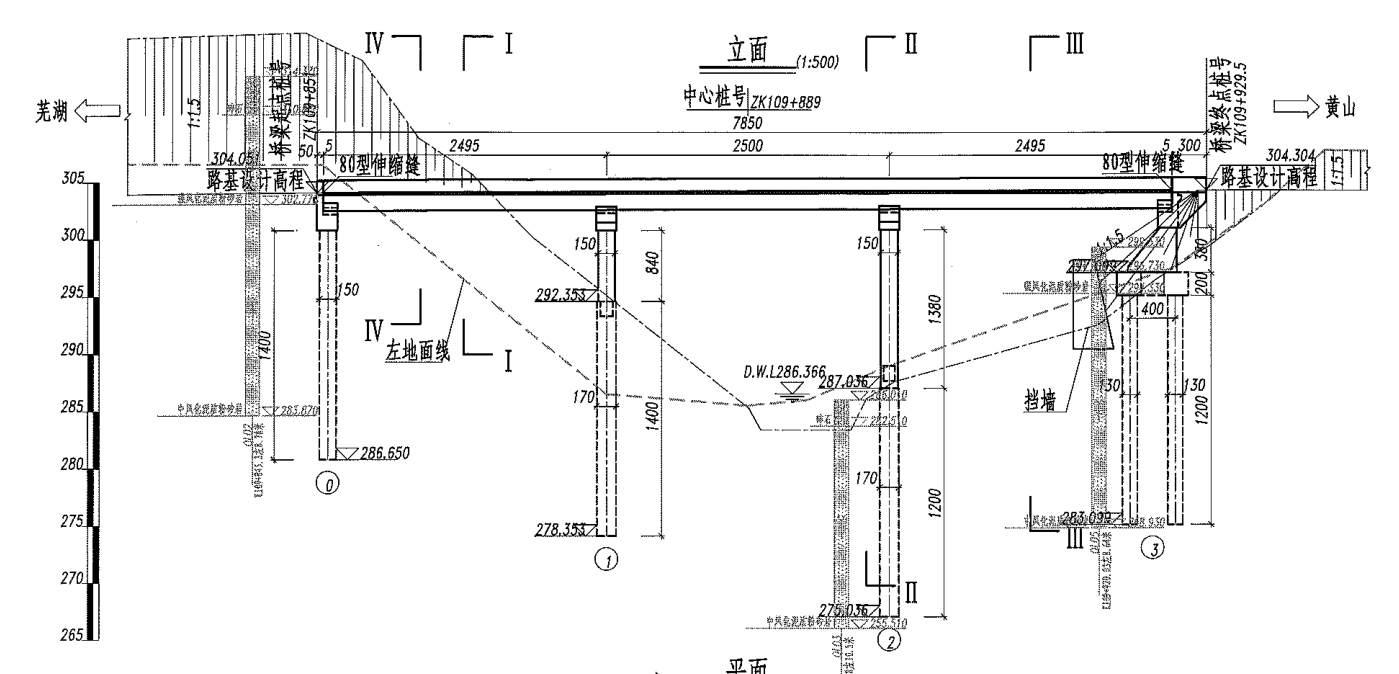A: (309, 111, 1211, 141)
C: (820, 199, 912, 654), (533, 203, 634, 576), (1067, 264, 1188, 559)
D: (738, 360, 827, 404)
